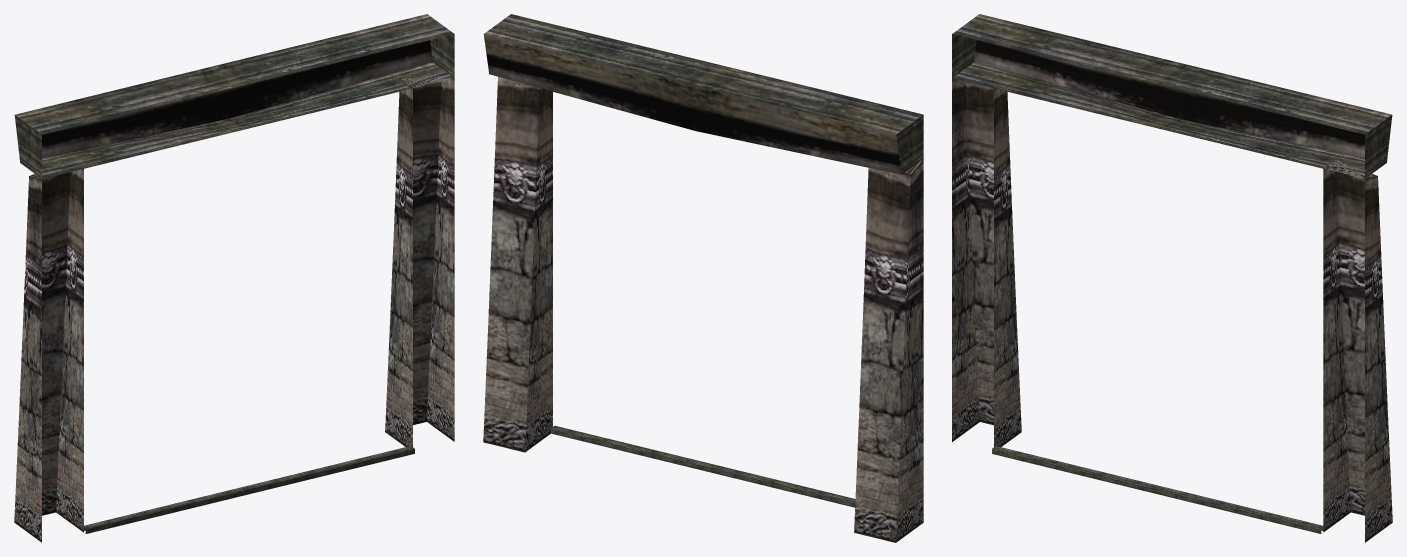
Rendered from sobs164.obj.
The picture shows the model from 3 angles, left to right: view 1: azimuth 30°, elevation 25°; view 2: azimuth 150°, elevation 25°; view 3: azimuth 330°, elevation 25°; orthographic projection.
Visible parts, largest first — view 1: sobs164; view 2: sobs164; view 3: sobs164.
Boxes of the visible parts, left/top/right/bottom form: sobs164: left=14, top=14, right=454, bottom=542; sobs164: left=483, top=14, right=923, bottom=542; sobs164: left=952, top=14, right=1392, bottom=542.
Bounding box in the file's own units: 125 × 118 × 15.68.
